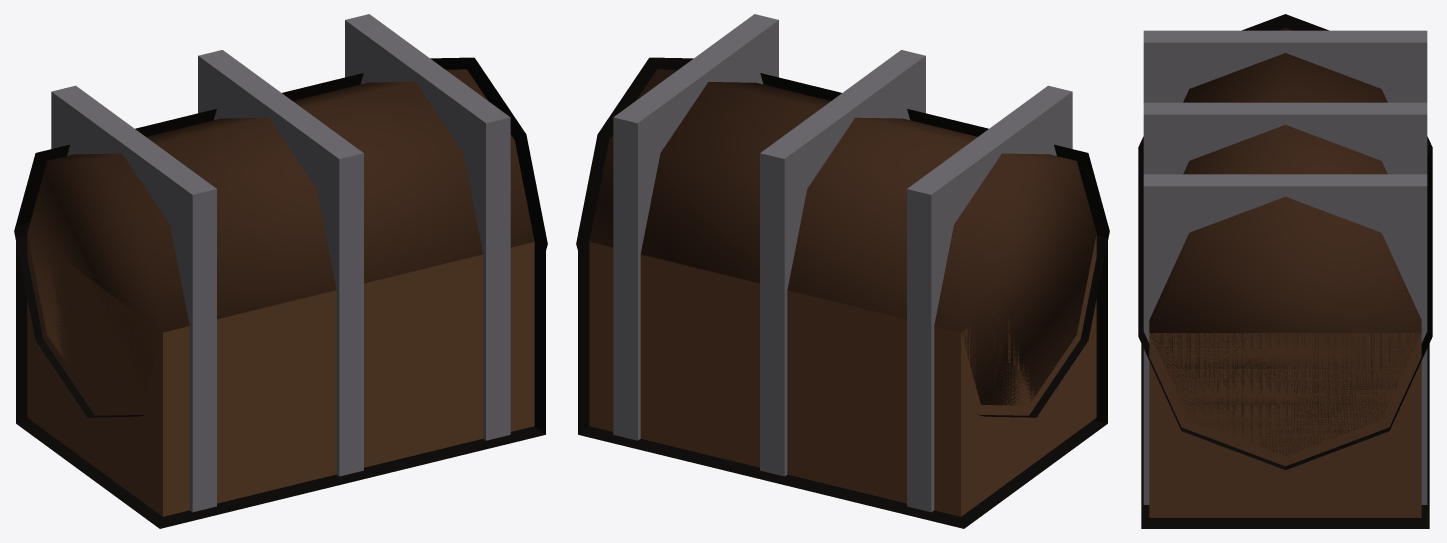
Rendered from chest.glb.
3 views of the same model, side by side, from view 1: azimuth 30°, elevation 25°; view 2: azimuth 150°, elevation 25°; view 3: azimuth 270°, elevation 25° (orthographic).
Visible parts, largest first — view 1: Prop_dq_chest_small; view 2: Prop_dq_chest_small; view 3: Prop_dq_chest_small.
Boxes of the visible parts, left/top/right/bottom form: Prop_dq_chest_small: left=14, top=14, right=547, bottom=528; Prop_dq_chest_small: left=576, top=14, right=1109, bottom=528; Prop_dq_chest_small: left=1138, top=14, right=1432, bottom=528.
Bounding box in the file's own units: 0.7915 × 0.6344 × 0.5188.
